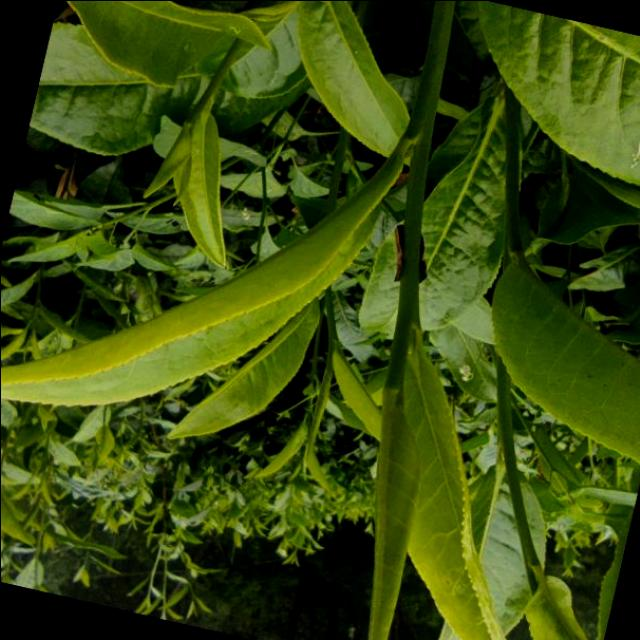Stem: (396, 280, 419, 326), (210, 68, 224, 87), (327, 318, 338, 342)
